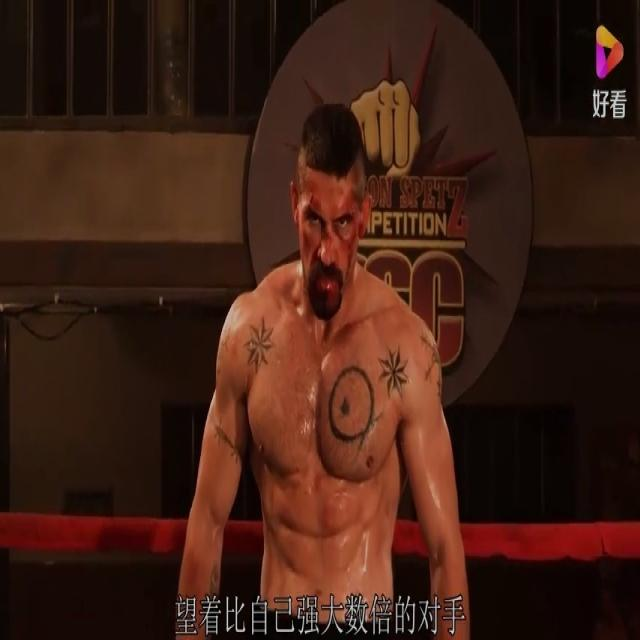fight: (178, 0, 544, 639)
